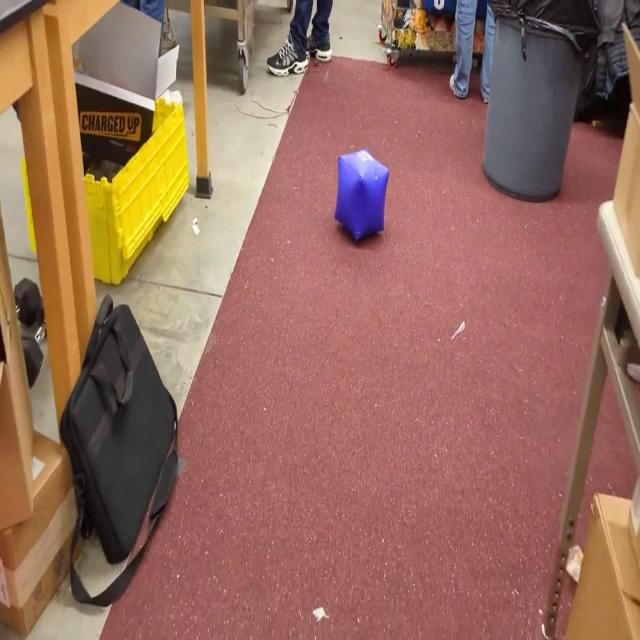frc_cube: (335, 143, 389, 247)
